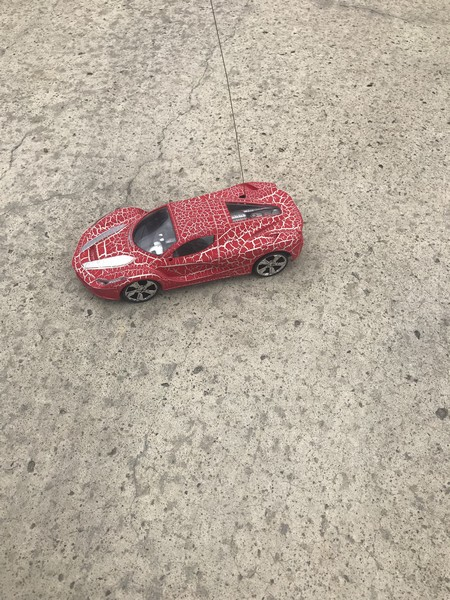RC: (69, 179, 306, 306)
